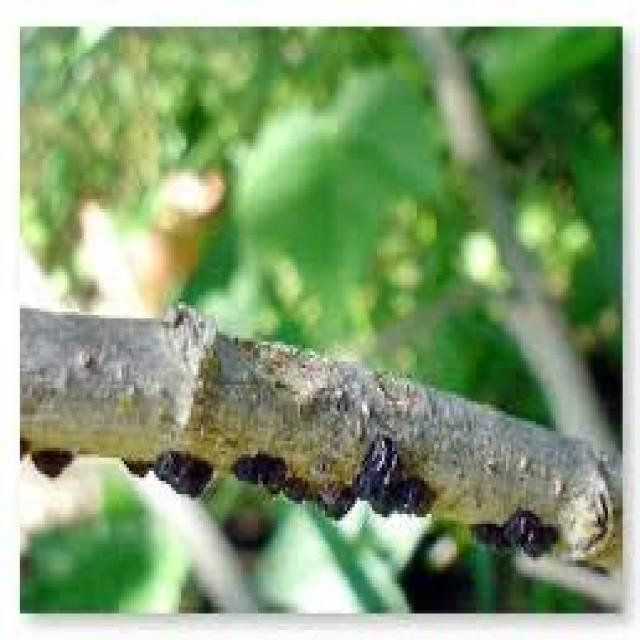Black Scale: (231, 437, 440, 522), (122, 451, 218, 507), (468, 507, 558, 564), (22, 441, 74, 487)
